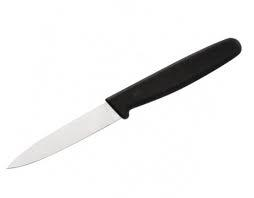Knife: (6, 36, 242, 169)
